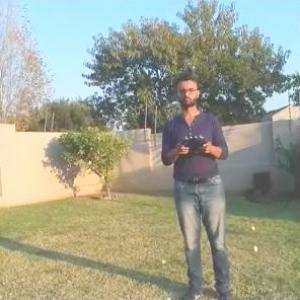follow: (157, 69, 244, 299)
